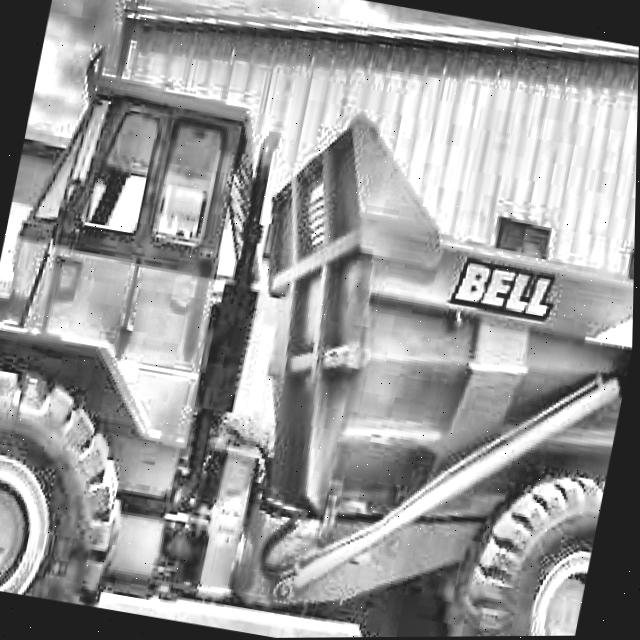dump_truck: (0, 34, 639, 640)
